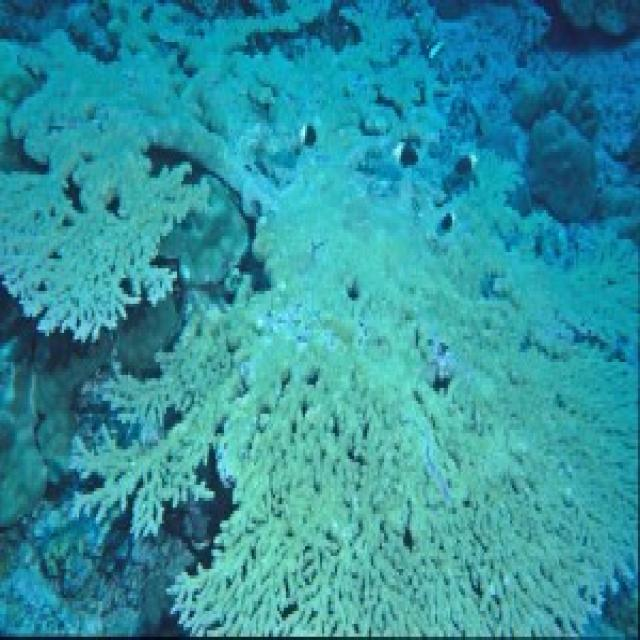Bleached: (82, 163, 635, 635), (12, 49, 443, 188), (1, 134, 204, 340)
